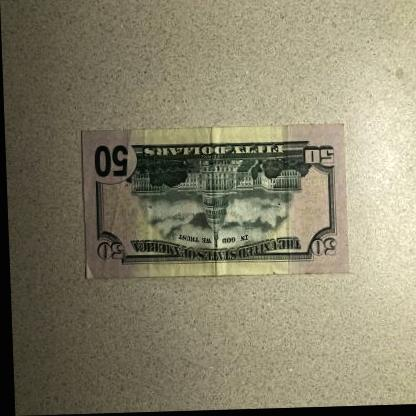fifty-back: (79, 125, 348, 283)
